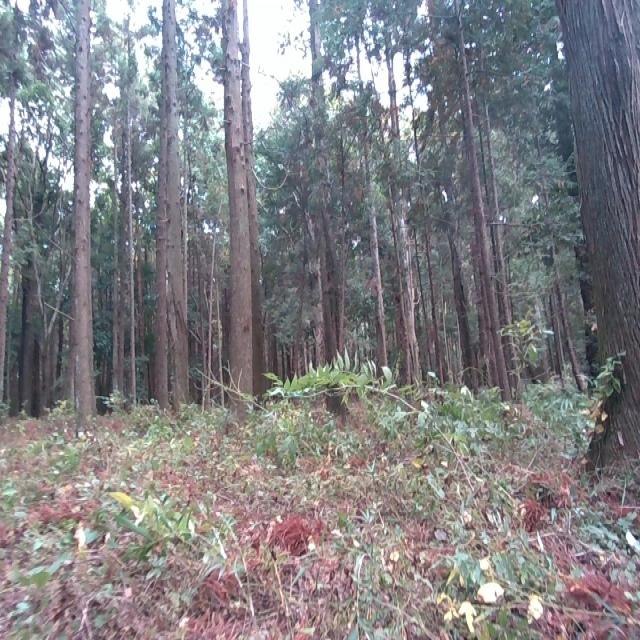bush: (264, 346, 505, 529)
tree: (550, 0, 640, 474), (376, 9, 433, 393), (216, 0, 252, 424), (69, 0, 98, 450), (157, 0, 185, 419)
